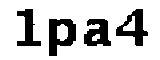1: (11, 6, 43, 52)
4: (112, 3, 149, 50)
a: (78, 15, 113, 50)
p: (45, 16, 77, 60)
